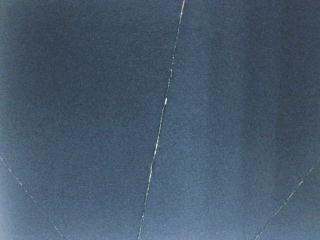crack: (133, 0, 191, 240), (252, 161, 320, 240), (0, 158, 65, 240)
